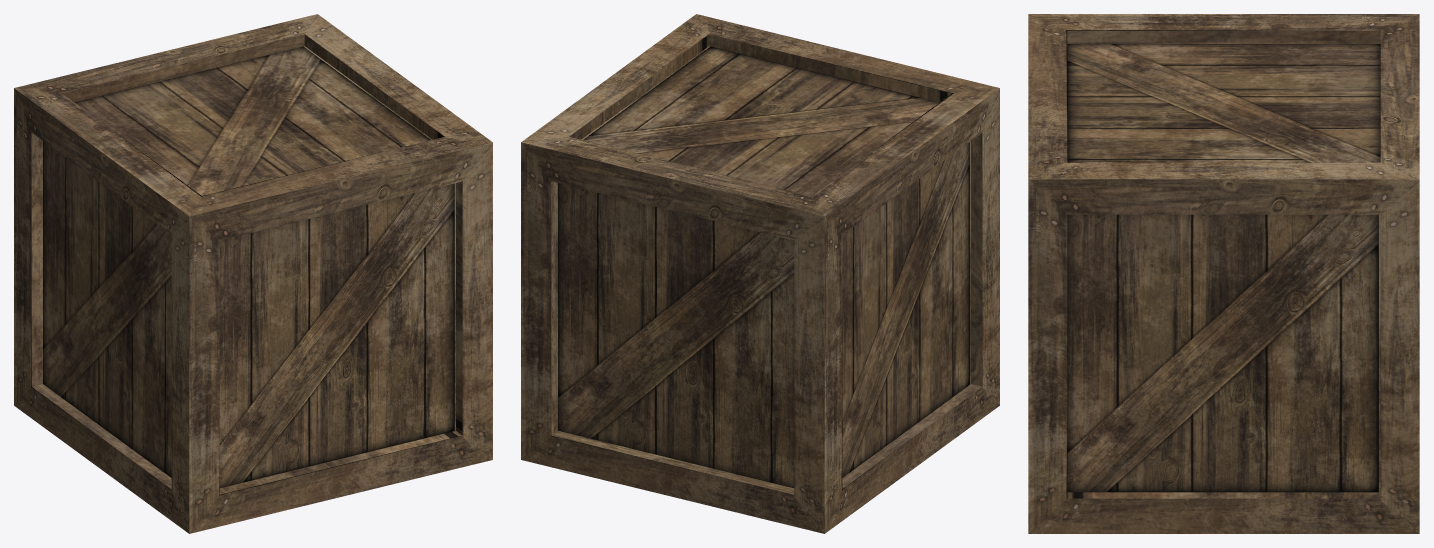
File: Industrial Crate.FBX
The picture shows the model from 3 angles, left to right: view 1: azimuth 30°, elevation 25°; view 2: azimuth 150°, elevation 25°; view 3: azimuth 270°, elevation 25°; orthographic projection. The views are drawn at different scales.
Parts seen in each view (by area): view 1: Industrial Crate; view 2: Industrial Crate; view 3: Industrial Crate.
Part boxes in pixels (x1=…): Industrial Crate: x1=14, y1=14, x2=492, y2=533; Industrial Crate: x1=521, y1=14, x2=999, y2=533; Industrial Crate: x1=1028, y1=14, x2=1419, y2=533.
Size of the model in its own units: 40 by 40 by 40.
